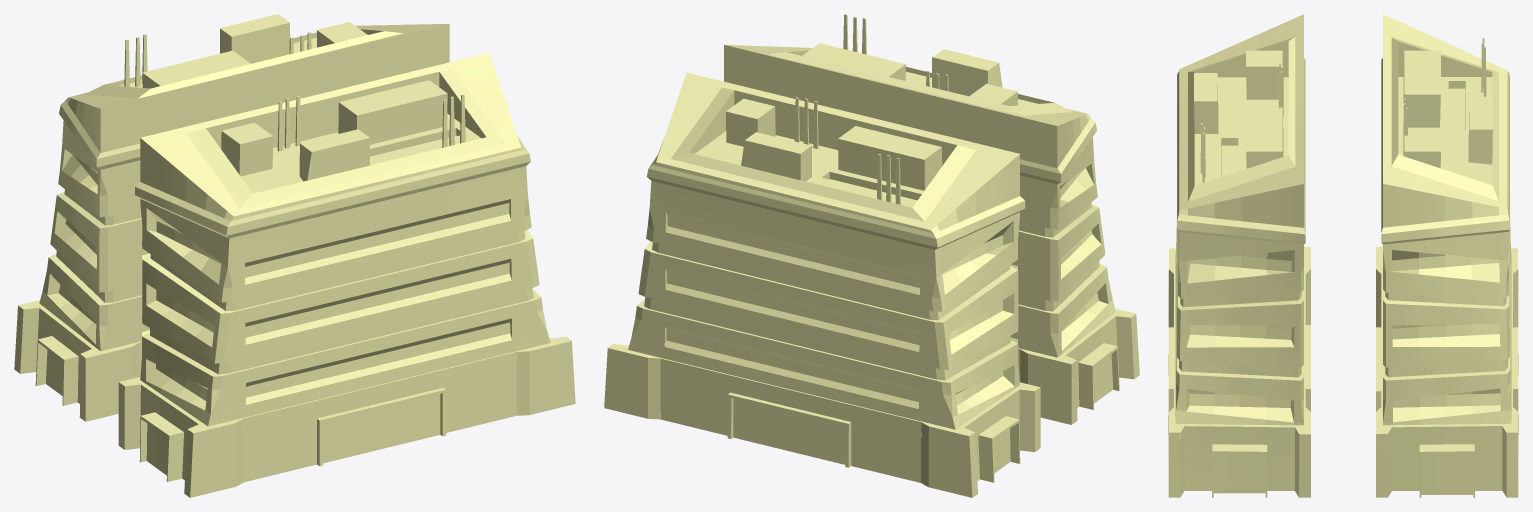
File: MangaKa Props - F_S_ScifiBuilding_31.glb
3 renders of one model, left to right at view 1: azimuth 30°, elevation 25°; view 2: azimuth 150°, elevation 25°; view 3: azimuth 270°, elevation 25°, orthographic. The views are drawn at different scales.
Parts seen in each view (by area): view 1: F_S_ScifiBuilding_31_blueScreen, F_S_ScifiBuilding_31004_blueScreen, F_S_ScifiBuilding_31003_blueScreen, F_S_ScifiBuilding_31001_blueScreen, F_S_ScifiBuilding_31002_blueScreen; view 2: F_S_ScifiBuilding_31_blueScreen, F_S_ScifiBuilding_31004_blueScreen, F_S_ScifiBuilding_31003_blueScreen, F_S_ScifiBuilding_31001_blueScreen, F_S_ScifiBuilding_31002_blueScreen; view 3: F_S_ScifiBuilding_31_blueScreen, F_S_ScifiBuilding_31004_blueScreen, F_S_ScifiBuilding_31003_blueScreen, F_S_ScifiBuilding_31001_blueScreen, F_S_ScifiBuilding_31002_blueScreen.
Boxes of the visible parts, x1,y1,x2,y2 form: F_S_ScifiBuilding_31_blueScreen: (20,23,550,482); F_S_ScifiBuilding_31004_blueScreen: (14,14,575,497); F_S_ScifiBuilding_31003_blueScreen: (46,156,510,475); F_S_ScifiBuilding_31001_blueScreen: (47,149,511,410); F_S_ScifiBuilding_31002_blueScreen: (59,191,533,374); F_S_ScifiBuilding_31_blueScreen: (628,44,1117,482); F_S_ScifiBuilding_31004_blueScreen: (604,14,1139,497); F_S_ScifiBuilding_31003_blueScreen: (666,169,1112,473); F_S_ScifiBuilding_31001_blueScreen: (664,164,1108,414); F_S_ScifiBuilding_31002_blueScreen: (644,204,1096,380); F_S_ScifiBuilding_31_blueScreen: (1173,14,1513,496); F_S_ScifiBuilding_31004_blueScreen: (1168,37,1518,497); F_S_ScifiBuilding_31003_blueScreen: (1189,255,1500,494); F_S_ScifiBuilding_31001_blueScreen: (1176,230,1510,422); F_S_ScifiBuilding_31002_blueScreen: (1179,292,1507,377).
Size of the model in its own units: 8.12 by 6.41 by 6.39.
